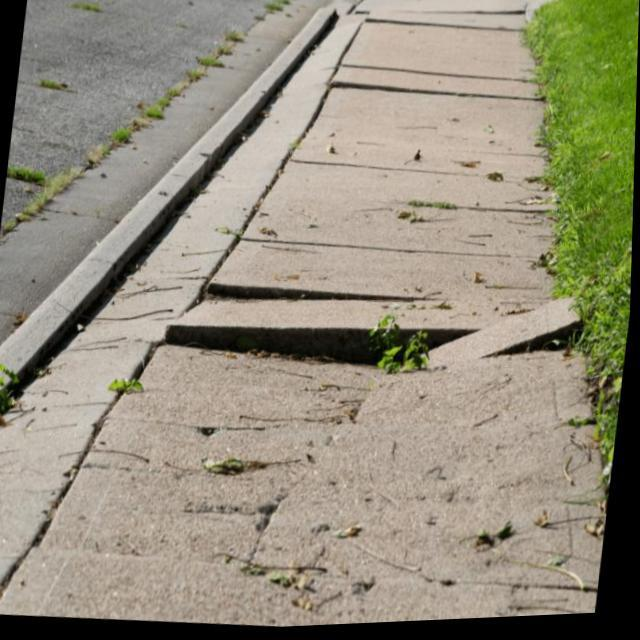hole: (147, 252, 605, 413)
